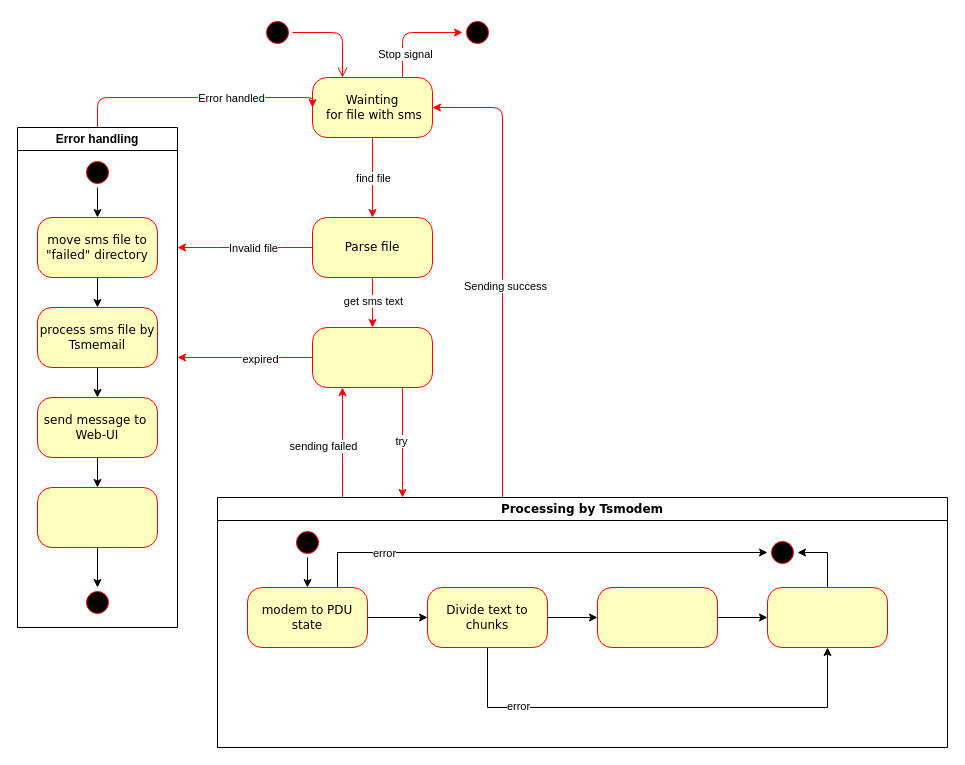
This 965x765 diagram has some shape labels left out. The shapes that lost their labels are listed below. From the top down, each one's centre as x and y in pixels, then its label:
At pixel 372 357: "check try count".
At pixel 97 517: "send message to Event log".
At pixel 657 617: "send chunks".
At pixel 827 617: "modem to TEXT state".
